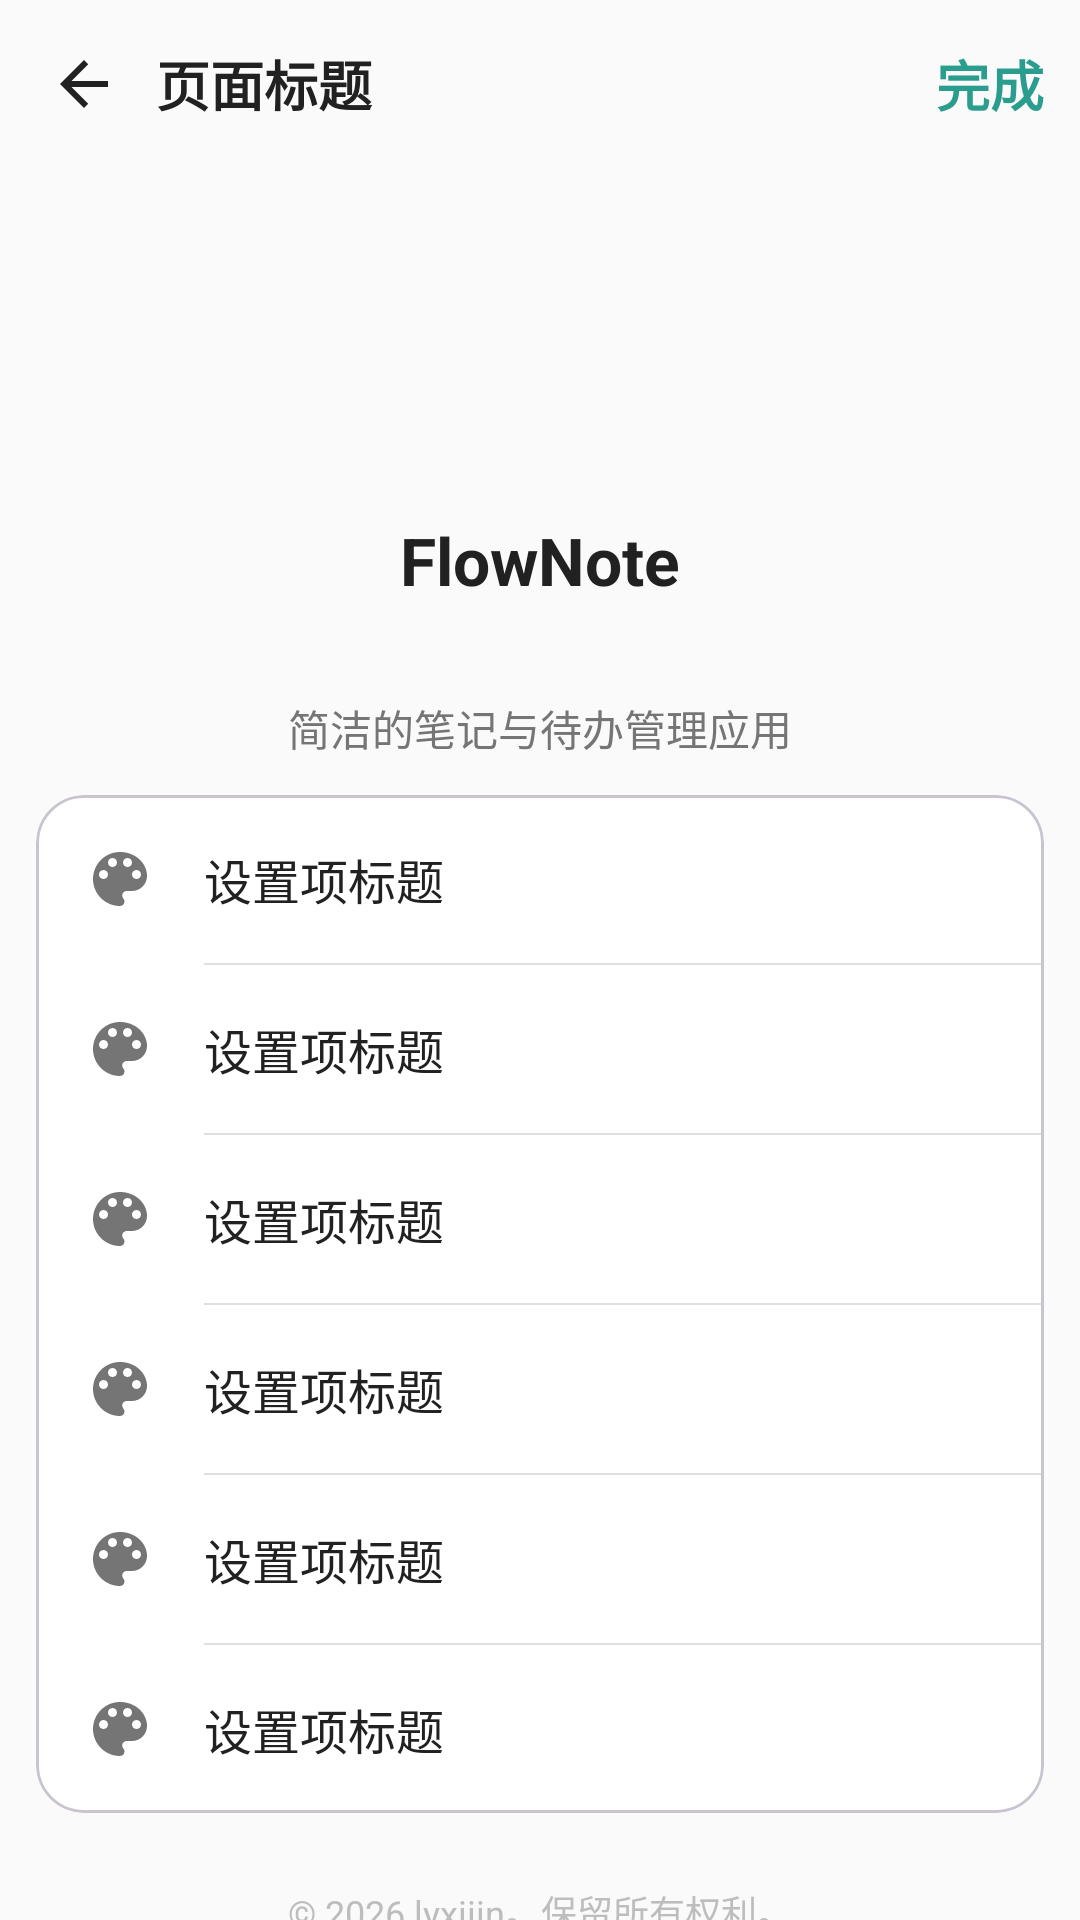

Icon click points for this 1080x1920 phone screenshot, format point (x, y):
palette: point (120, 879), point (120, 1049), point (120, 1219), point (120, 1389), point (120, 1559), point (120, 1729)
返回: point (84, 84)
